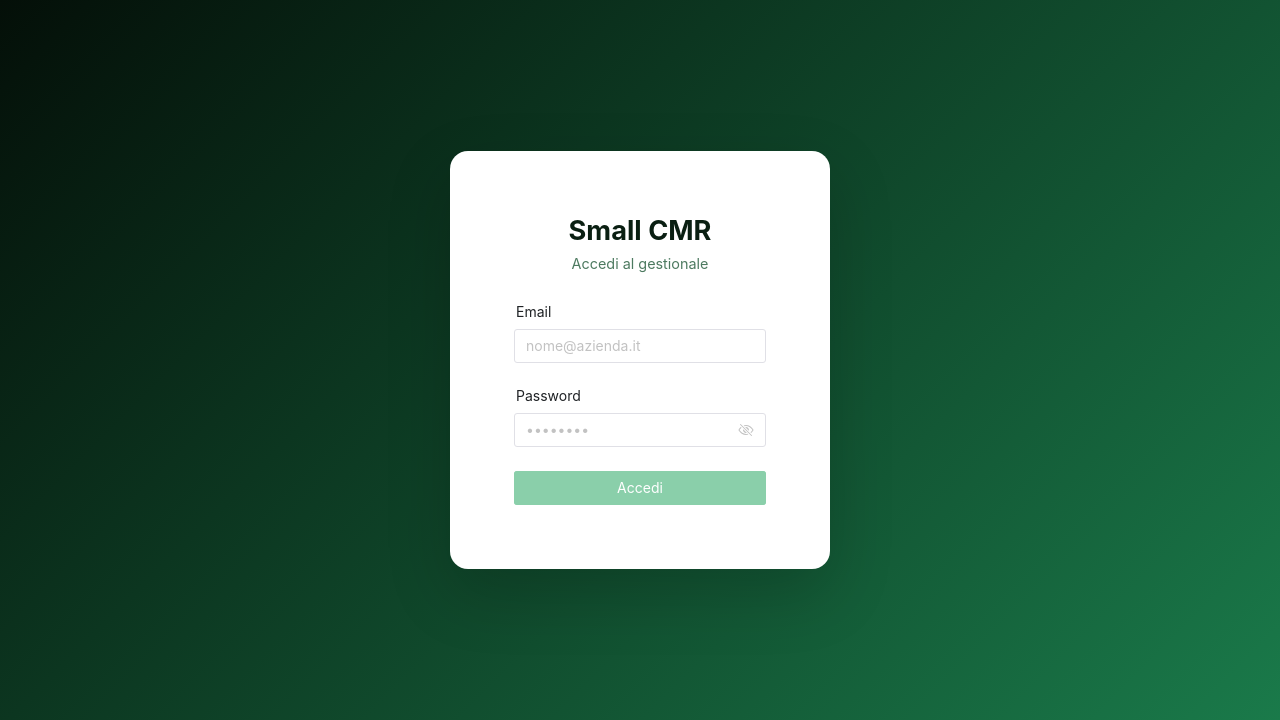
Login.vue › shows error on failed login
Step 1. Type "x@y.z" into the field with placeholder "nome@azienda.it" → point(640, 346), box [526,329,754,363]
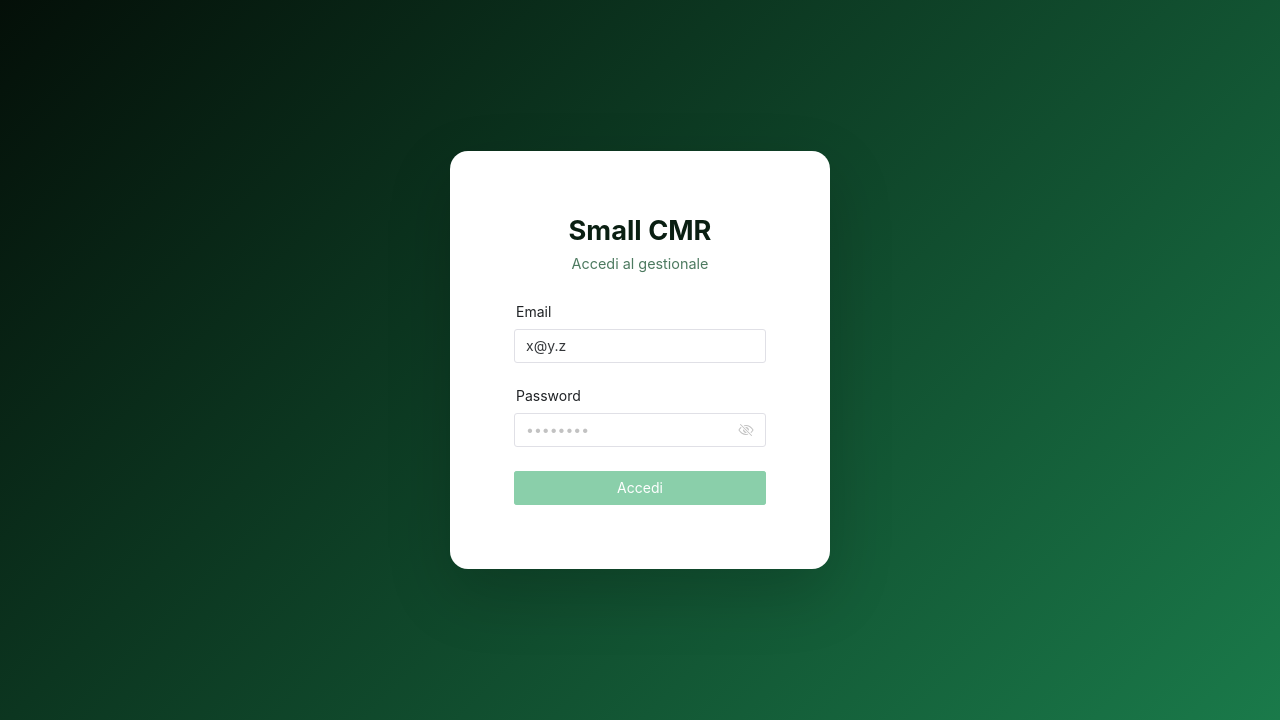
Step 2. Type "wrong" into the password field with placeholder "••••••••" → point(630, 430), box [526,413,734,447]
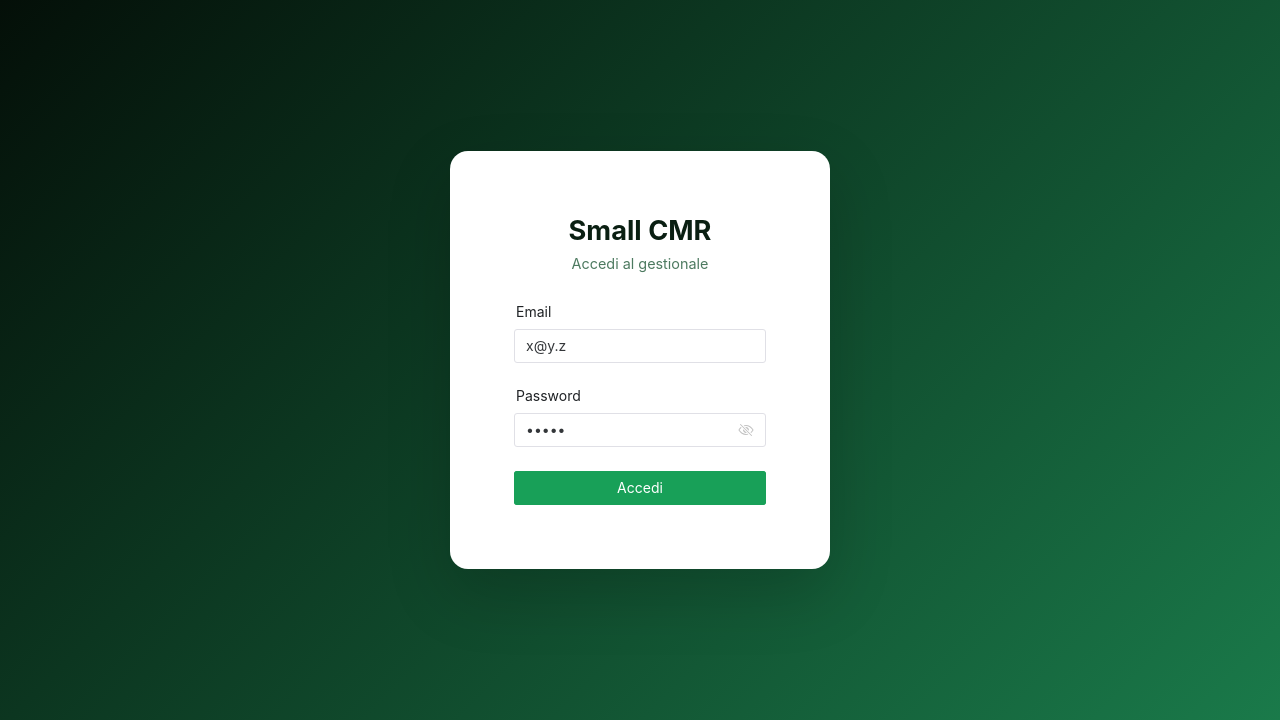
Step 3. Submit the form, box [514,303,766,505]
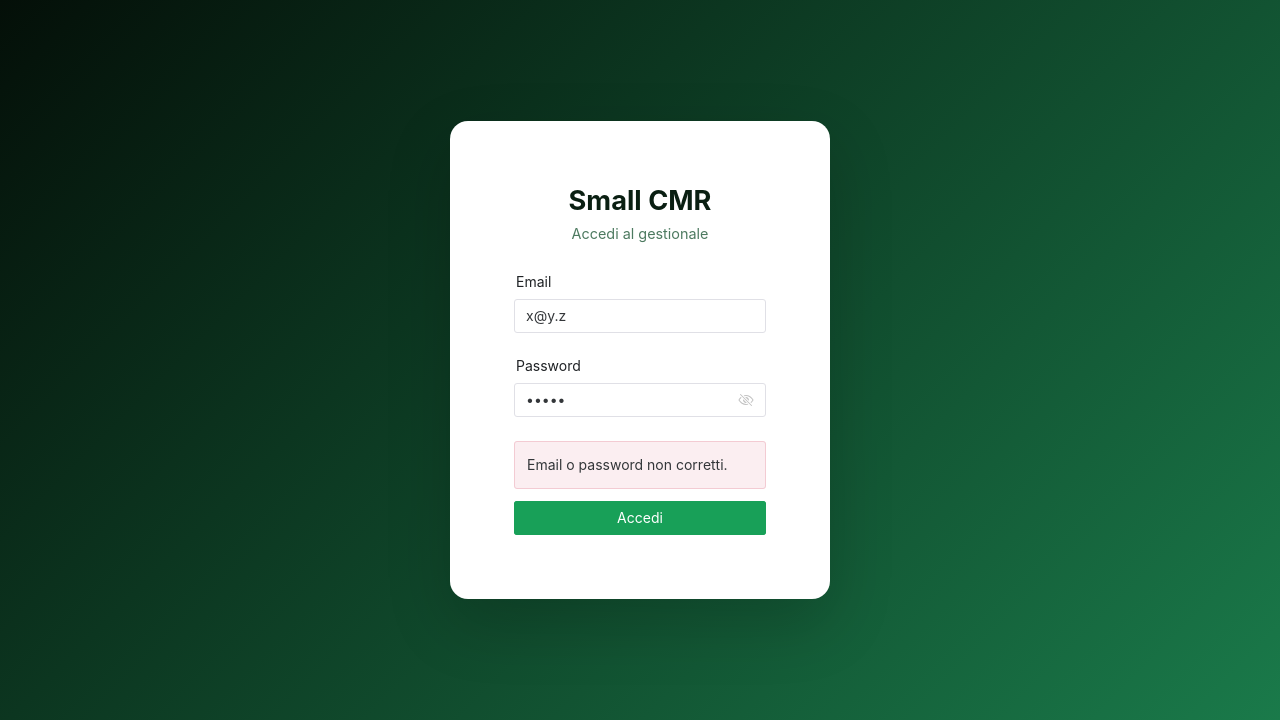
Expected: the text "Email o password non corretti" is shown, [527,456,728,473]
